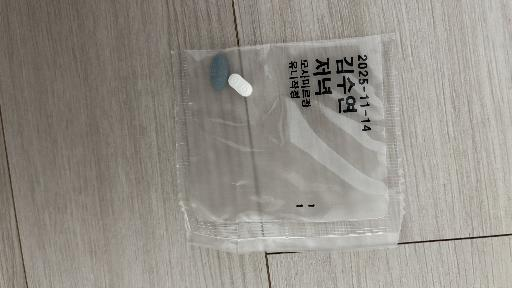Mosamir: (228, 73, 253, 97)
Unizac: (210, 54, 228, 91)
vinyl: (172, 35, 404, 253)
